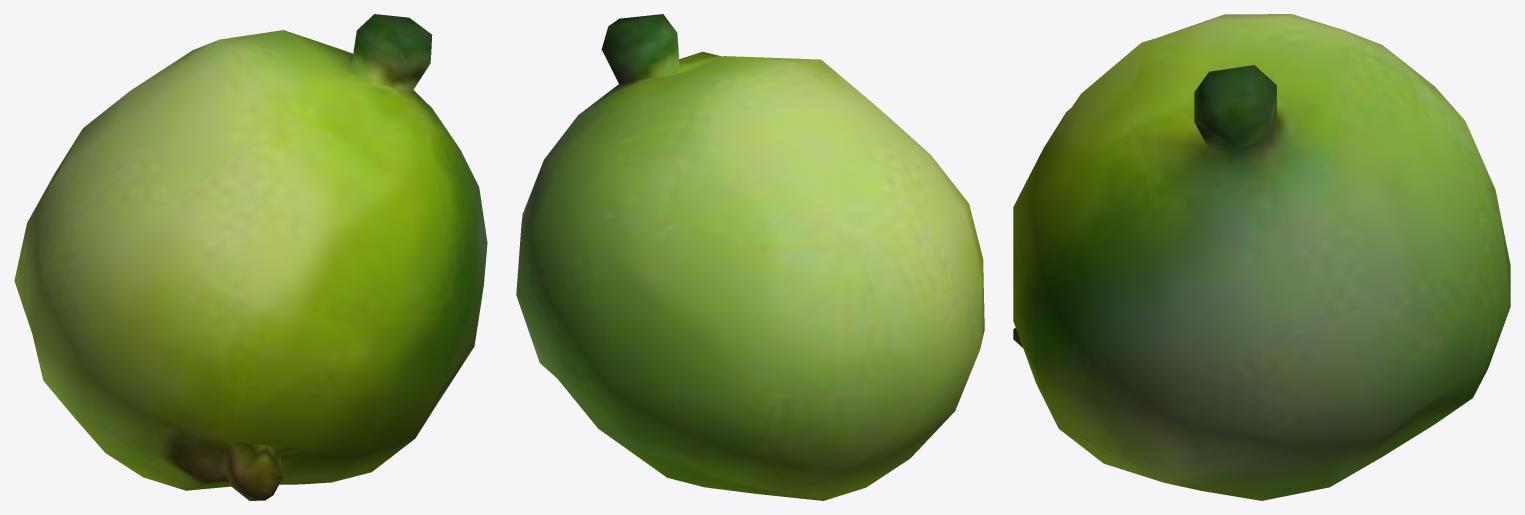
File: lime.glb
The picture shows the model from 3 angles, left to right: view 1: azimuth 30°, elevation 25°; view 2: azimuth 150°, elevation 25°; view 3: azimuth 270°, elevation 25°; orthographic projection. The views are drawn at different scales.
Parts seen in each view (by area): view 1: Lime; view 2: Lime; view 3: Lime.
Boxes of the visible parts, x1,y1,x2,y2 form: Lime: [14, 14, 487, 500]; Lime: [516, 14, 984, 500]; Lime: [1013, 14, 1510, 500].
Bounding box in the file's own units: 1.53 × 1.49 × 1.42.
Materials: 1 (1 with a texture image).
